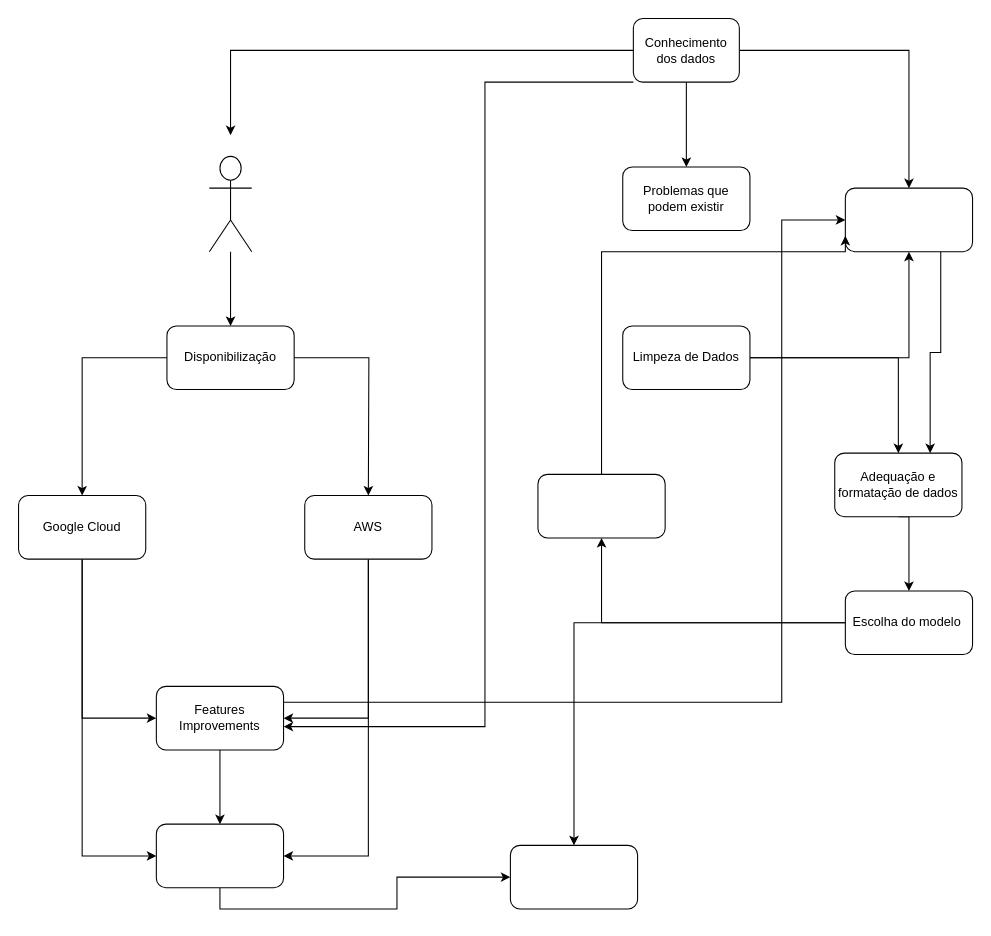
The diagram is 991 pixels wide and 936 high, and some of its shapes have lost their labels. Here are the shapes that lost their labels. From the top down, the box of each, then its label:
(208, 155, 252, 252): Actor
(844, 187, 973, 252): Processamento de variáveis
(537, 473, 665, 538): Aperfeiçoamento
(155, 823, 284, 888): Modelo de Serviço
(509, 844, 638, 909): Analise e Avalição de resultados
